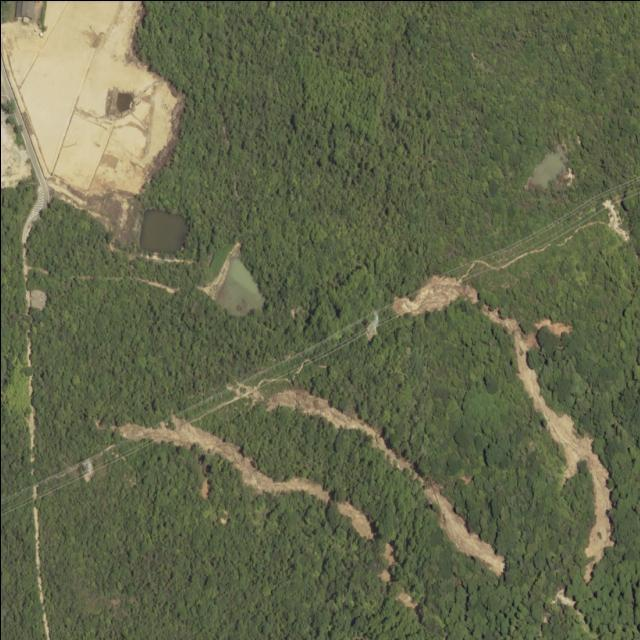landslide: (266, 390, 505, 576), (482, 306, 613, 581), (118, 416, 330, 503), (392, 275, 478, 315), (337, 502, 373, 538), (604, 198, 630, 241), (536, 319, 571, 335)
